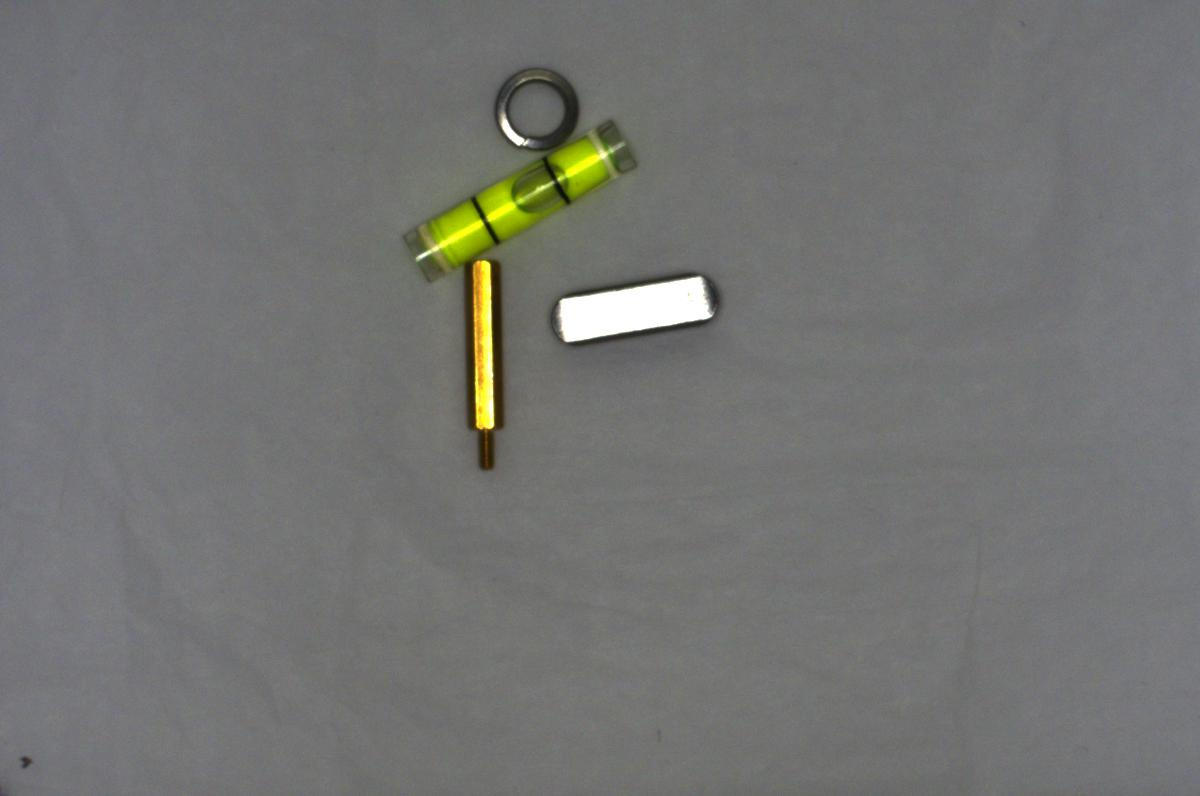Hexagon pillar: (451, 250, 520, 476)
Horizontal bubble: (394, 115, 647, 285)
Keybar: (541, 270, 732, 356)
Spring washer: (484, 56, 591, 160)
